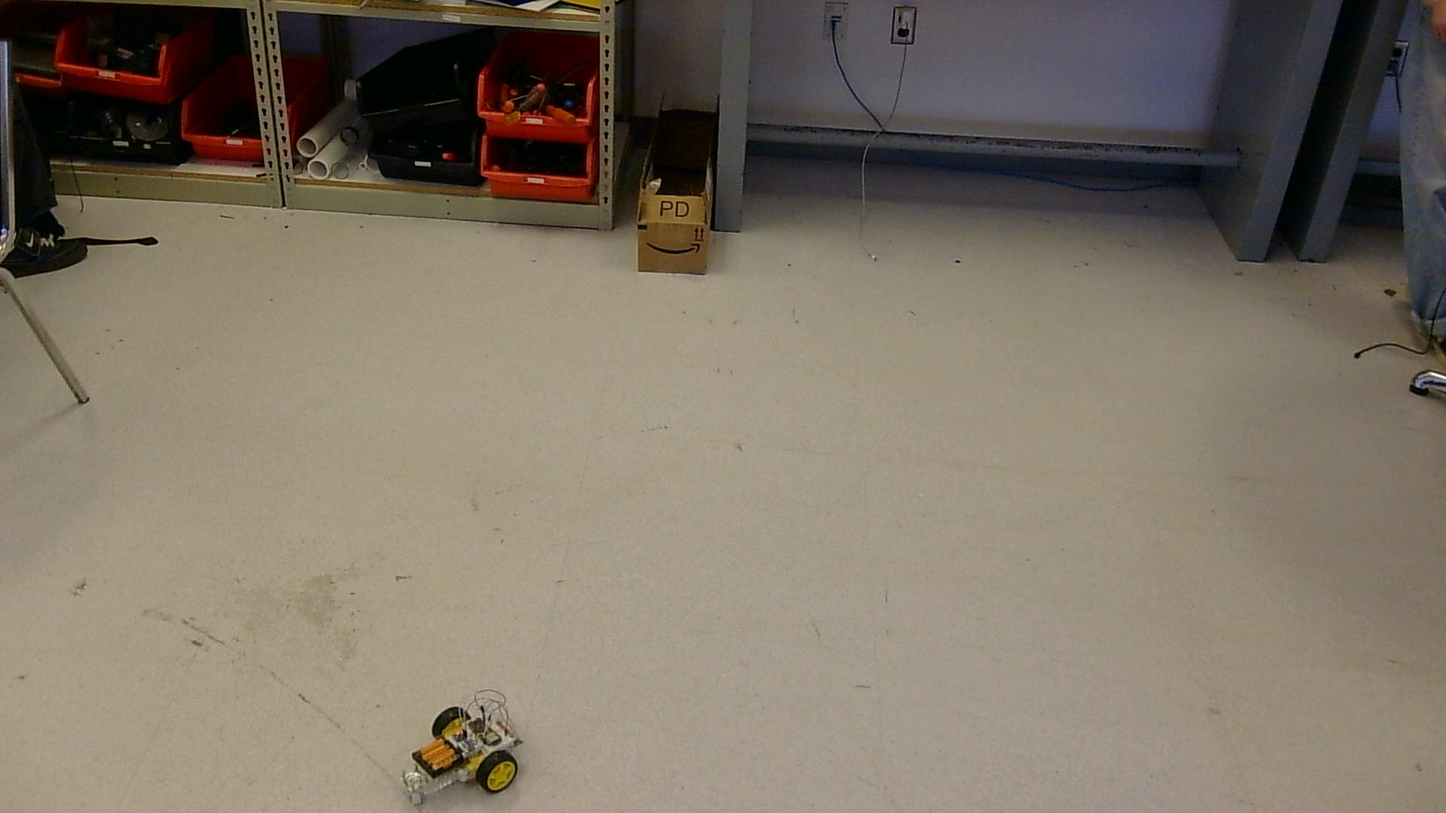robot: (401, 689, 522, 805)
